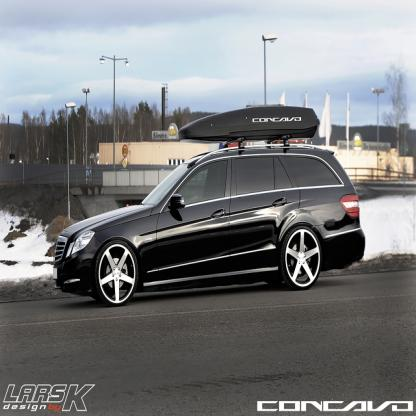Car: (54, 106, 366, 308)
